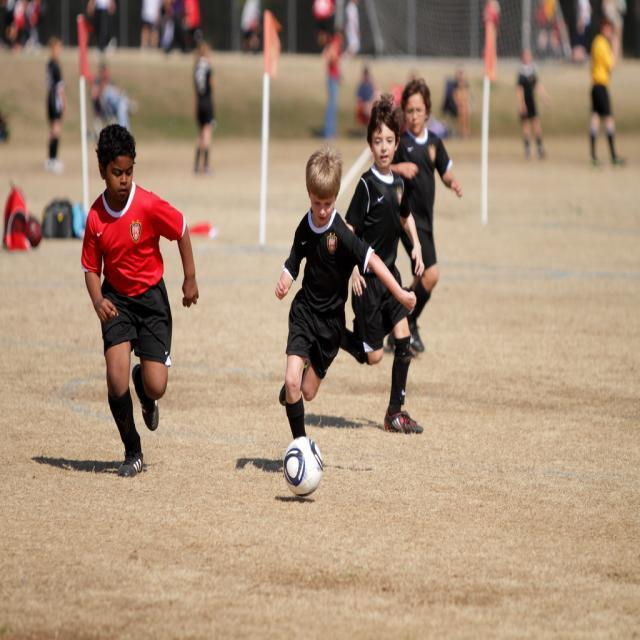football: (272, 431, 336, 505)
